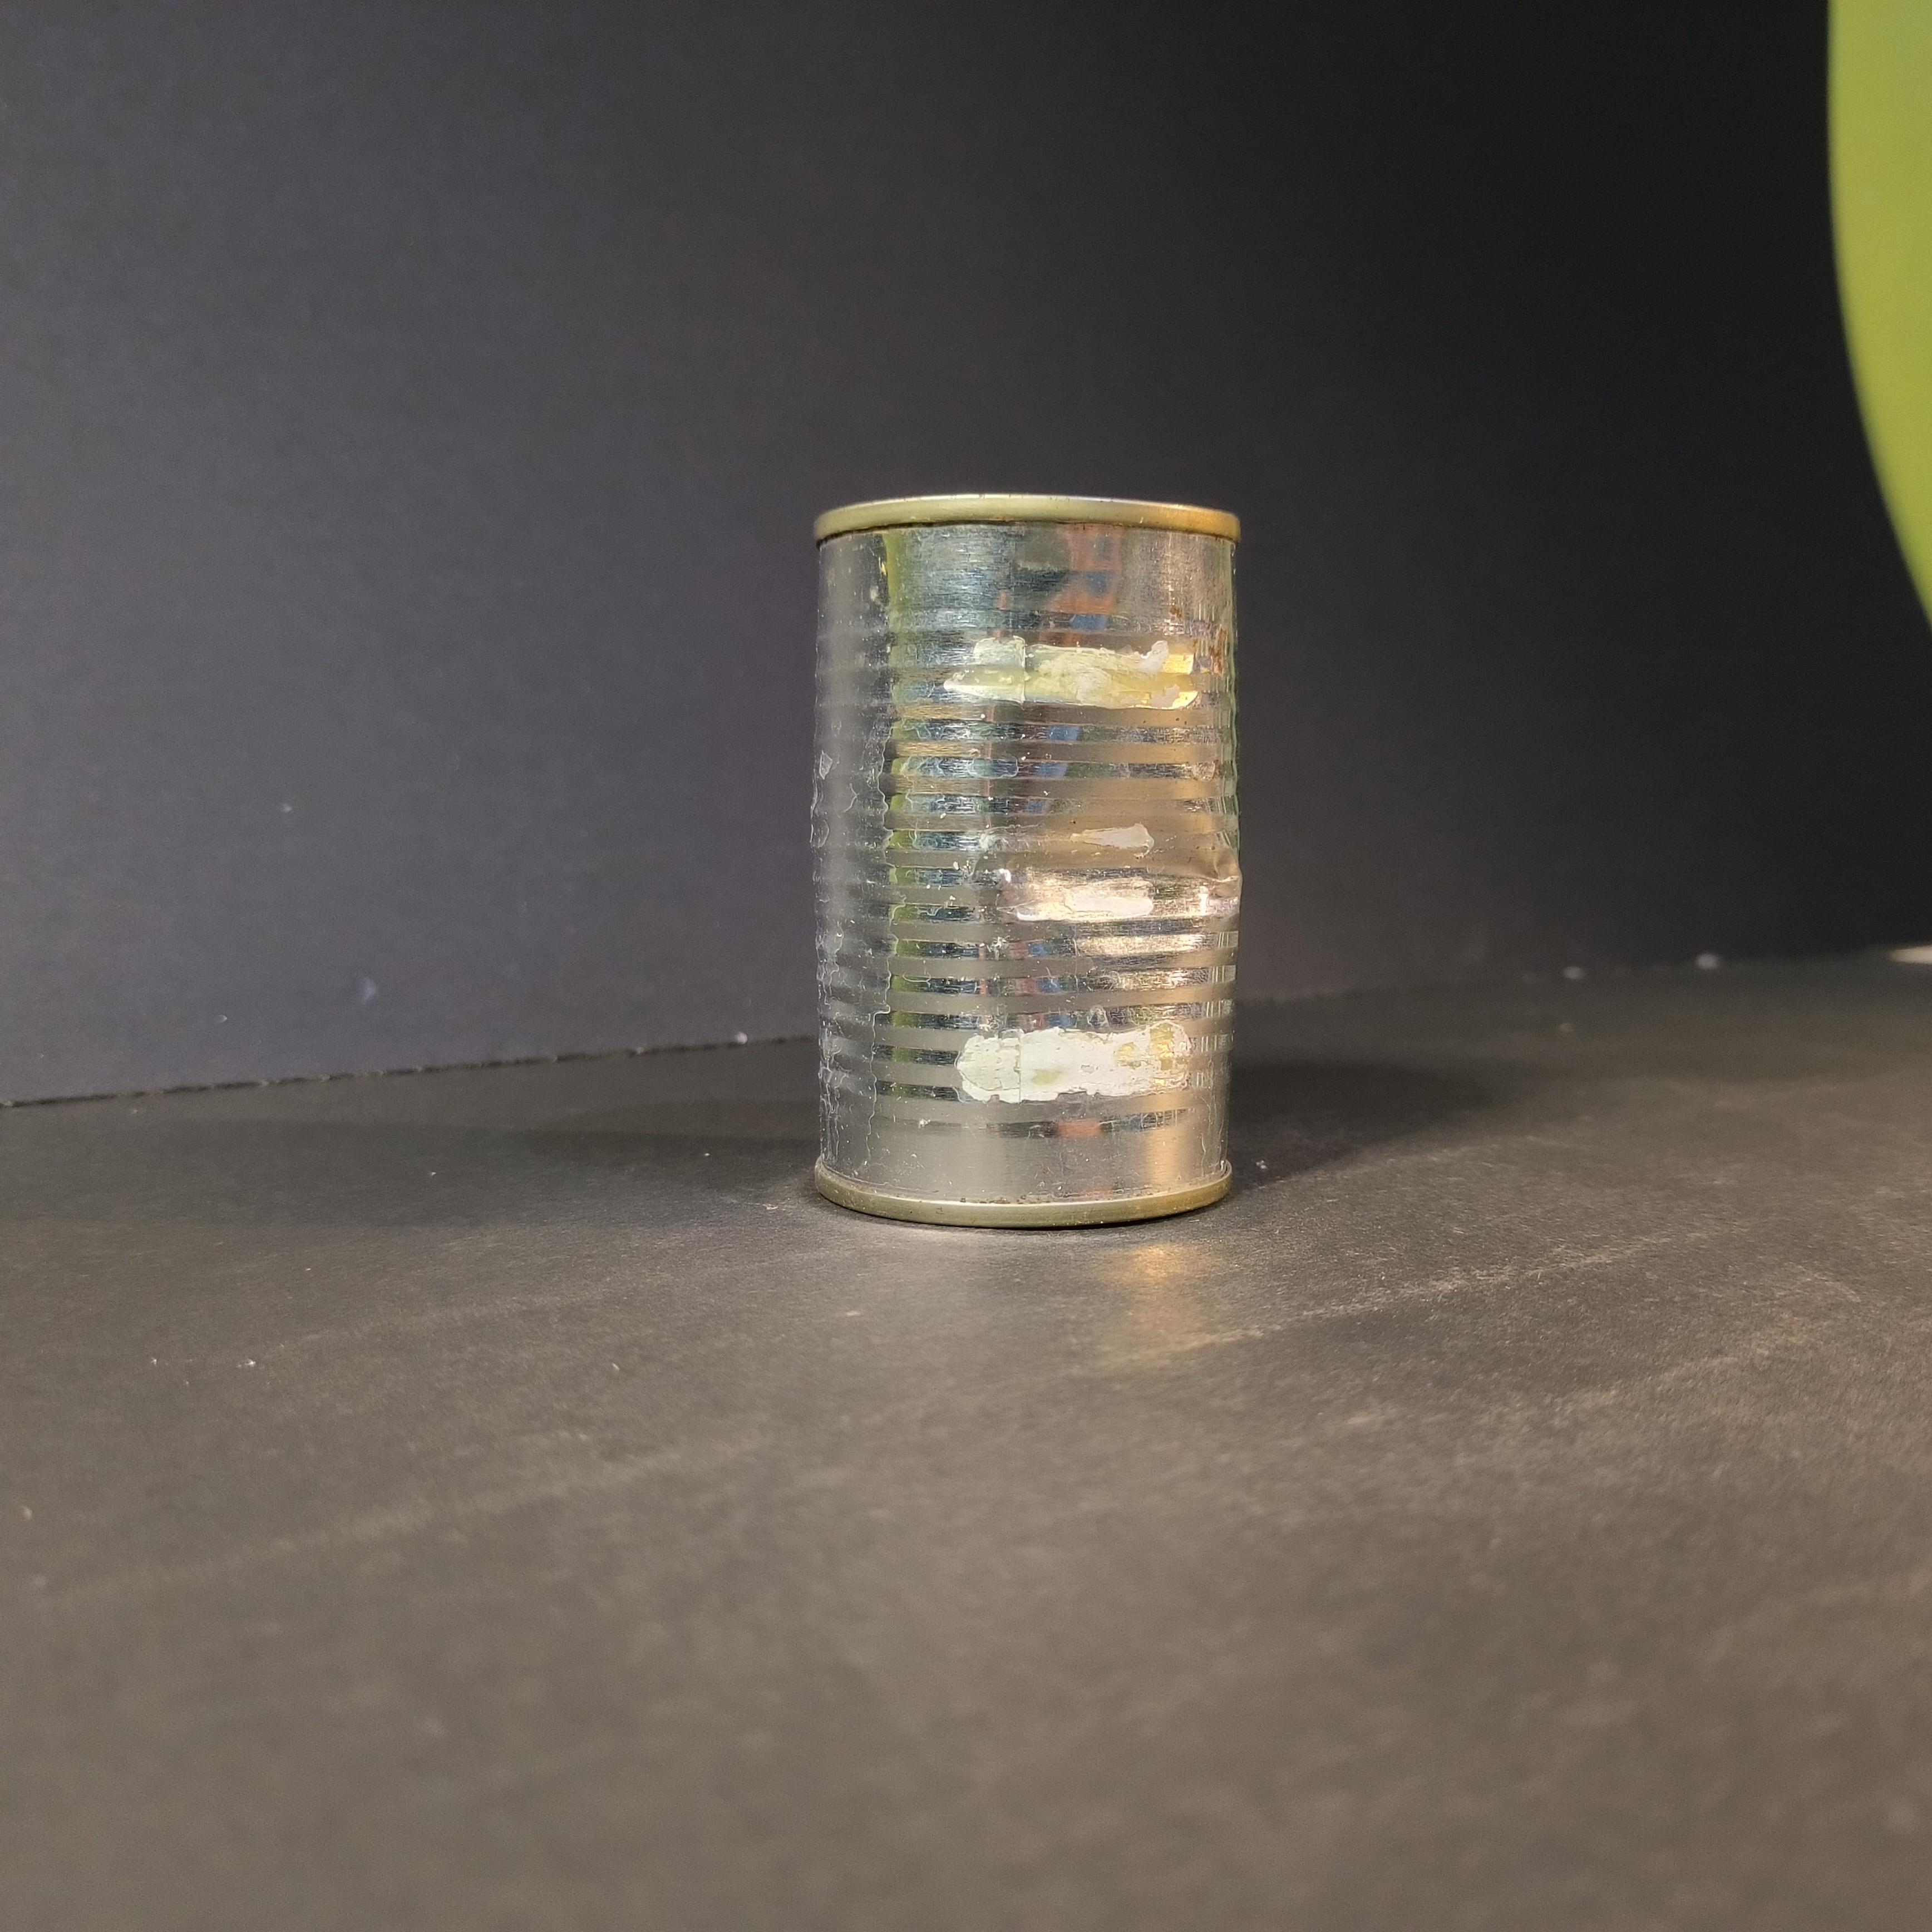Dented: (764, 448, 1272, 1267)
